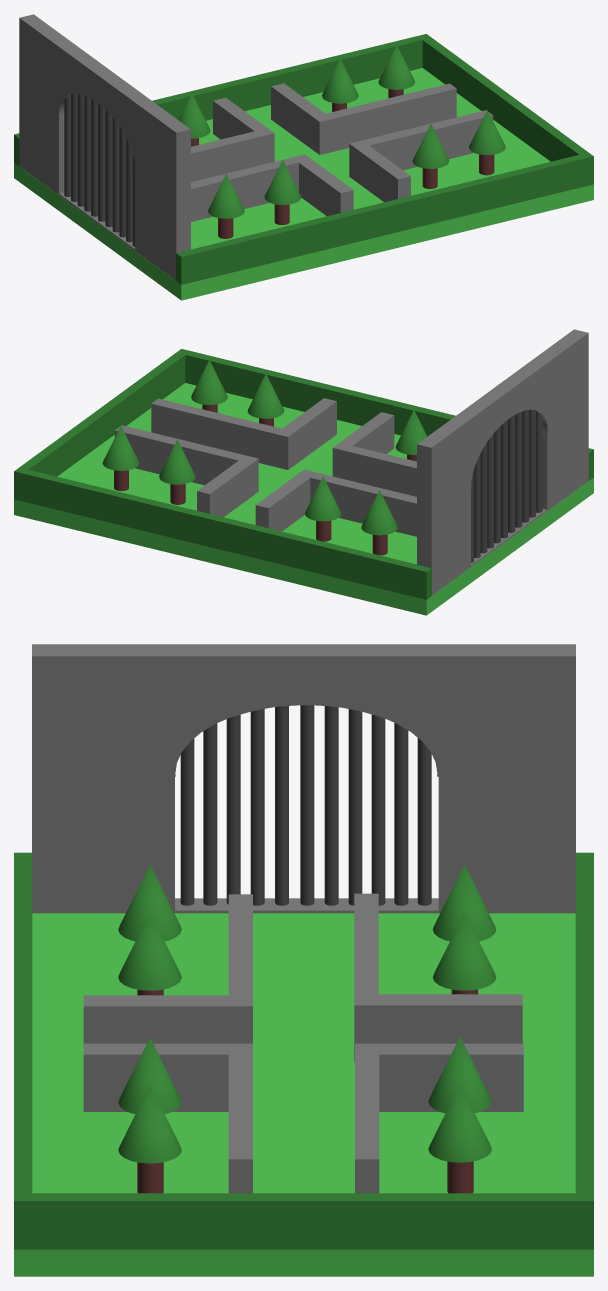
3 renders of one model, top to bottom at view 1: azimuth 30°, elevation 25°; view 2: azimuth 150°, elevation 25°; view 3: azimuth 270°, elevation 25°, orthographic. The views are drawn at different scales.
Parts seen in each view (by area): view 1: pasted__pCube7, pCube6, pasted__pasted__pCube11 (×3), pasted__pCube11, pasted__pasted__pasted__pCylinder2 (×5), pasted__pCone2 (×3), pasted__pasted__pCylinder2 (×4), pasted__pasted__pCone2 (×2), pCone2, pasted__pasted__pasted__pCone2, pasted__pCylinder2; view 2: pasted__pCube7, pCube6, pasted__pasted__pCube11 (×3), pasted__pCube11, pasted__pasted__pasted__pCylinder2 (×5), pasted__pasted__pCone2 (×3), pasted__pasted__pCylinder2 (×4), pasted__pCone2 (×2), pasted__pasted__pasted__pCone2, pCone2, pasted__pCylinder2; view 3: pasted__pCube7, pCube6, pasted__pasted__pCube11 (×3), pasted__pasted__pasted__pCylinder2 (×6), pasted__pasted__pCylinder2 (×4), pasted__pCube11, pasted__pasted__pCone2 (×3), pasted__pCone2 (×3), pasted__pasted__pasted__pCone2, pasted__pCylinder2, pCone2.
Part boxes in pixels (bbox=[...]): pasted__pCube7: bbox=[14, 34, 593, 300]; pCube6: bbox=[19, 14, 190, 280]; pasted__pasted__pCube11 (×3): bbox=[191, 83, 456, 221]; pasted__pCube11: bbox=[349, 110, 493, 202]; pasted__pasted__pasted__pCylinder2 (×5): bbox=[64, 94, 125, 237]; pasted__pCone2 (×3): bbox=[208, 58, 505, 238]; pasted__pasted__pCylinder2 (×4): bbox=[84, 95, 132, 242]; pasted__pasted__pCone2 (×2): bbox=[264, 45, 414, 224]; pCone2: bbox=[412, 124, 448, 188]; pasted__pasted__pasted__pCone2: bbox=[179, 93, 210, 146]; pasted__pCylinder2: bbox=[71, 93, 77, 201]; pasted__pCube7: bbox=[14, 349, 593, 615]; pCube6: bbox=[417, 329, 588, 595]; pasted__pasted__pCube11 (×3): bbox=[114, 412, 416, 536]; pasted__pCube11: bbox=[151, 398, 336, 469]; pasted__pasted__pasted__pCylinder2 (×5): bbox=[480, 410, 542, 553]; pasted__pasted__pCone2 (×3): bbox=[102, 410, 427, 555]; pasted__pasted__pCylinder2 (×4): bbox=[487, 409, 535, 548]; pasted__pCone2 (×2): bbox=[159, 360, 227, 504]; pasted__pasted__pasted__pCone2: bbox=[305, 476, 341, 541]; pCone2: bbox=[247, 374, 284, 426]; pasted__pCylinder2: bbox=[474, 454, 480, 557]; pasted__pCube7: bbox=[14, 852, 593, 1276]; pCube6: bbox=[32, 644, 575, 913]; pasted__pasted__pCube11 (×3): bbox=[83, 893, 523, 1193]; pasted__pasted__pasted__pCylinder2 (×6): bbox=[180, 706, 431, 905]; pasted__pasted__pCylinder2 (×4): bbox=[203, 705, 362, 905]; pasted__pCube11: bbox=[83, 1043, 252, 1193]; pasted__pasted__pCone2 (×3): bbox=[118, 865, 496, 1193]; pasted__pCone2 (×3): bbox=[118, 865, 491, 1193]; pasted__pasted__pasted__pCone2: bbox=[432, 912, 496, 994]; pasted__pCylinder2: bbox=[394, 723, 408, 905]; pCone2: bbox=[118, 1037, 181, 1113].
Size of the model in its own units: 22.4 by 8.51 by 15.75.
